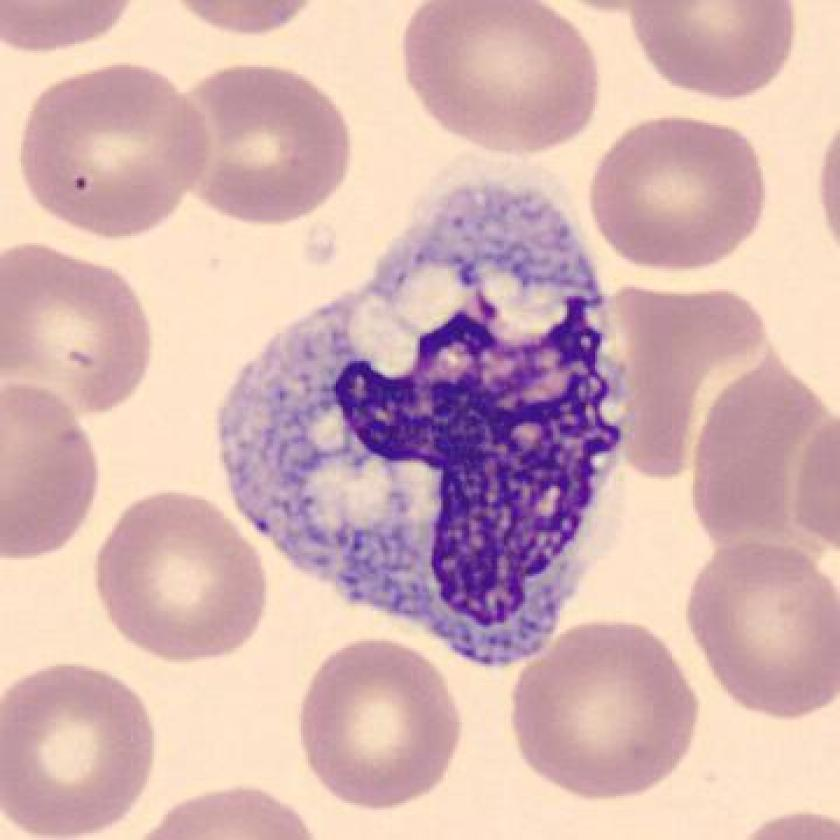monocyte: (190, 133, 654, 688)
